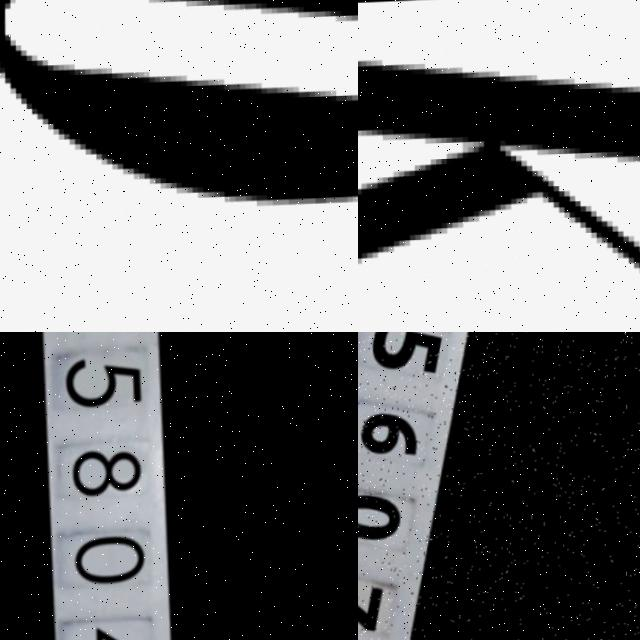0: (65, 525, 160, 587), (358, 477, 423, 550)
4: (74, 615, 160, 640)
5: (56, 346, 155, 411), (359, 332, 462, 381)
6: (358, 395, 441, 464)
7: (358, 567, 400, 636)
8: (63, 439, 156, 498)
K: (358, 0, 640, 332)
